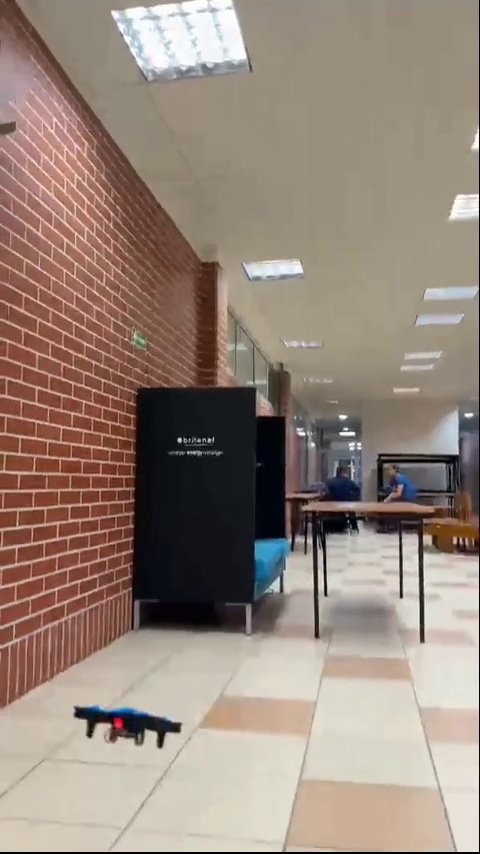drone: (71, 703, 182, 747)
no vest: (380, 462, 423, 508), (325, 460, 365, 505)
